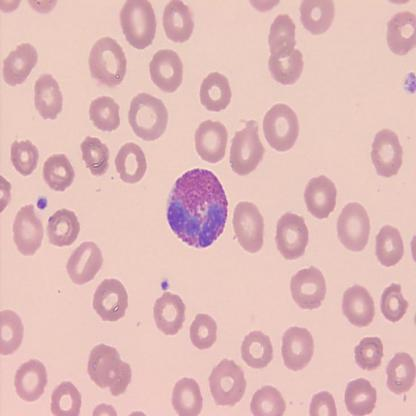Eosinophil: (168, 170, 228, 250)
